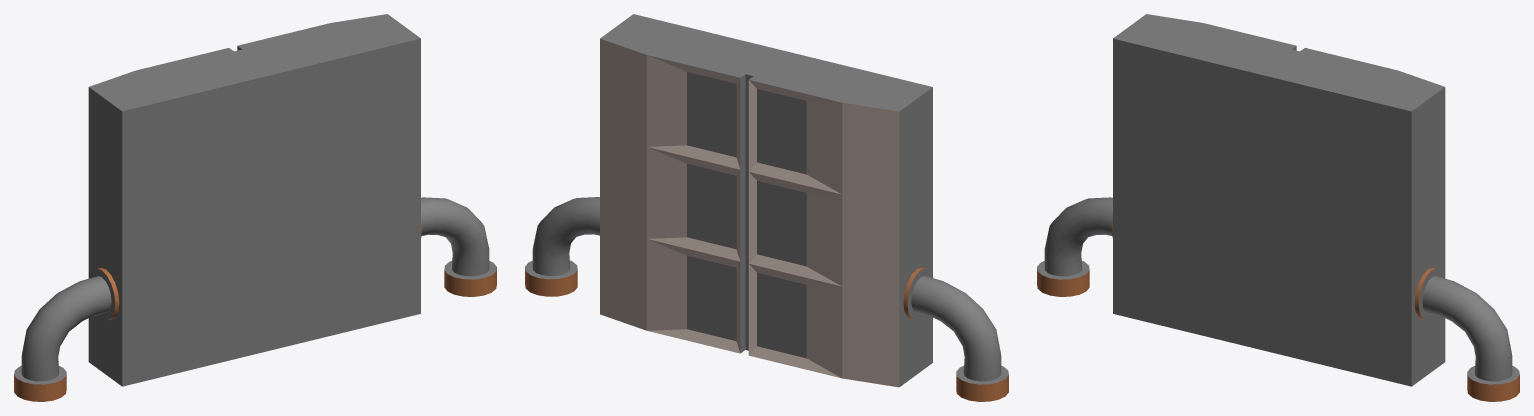
Rendered from SM_Pipe_BOARD_W.fbx.
3 renders of one model, left to right at view 1: azimuth 30°, elevation 25°; view 2: azimuth 150°, elevation 25°; view 3: azimuth 330°, elevation 25°, orthographic.
Visible parts, largest first — view 1: SM_Pipe_BOARD_W; view 2: SM_Pipe_BOARD_W; view 3: SM_Pipe_BOARD_W.
Part boxes in pixels (left/top/right/bottom): SM_Pipe_BOARD_W: left=14, top=14, right=496, bottom=401; SM_Pipe_BOARD_W: left=525, top=14, right=1008, bottom=401; SM_Pipe_BOARD_W: left=1037, top=14, right=1519, bottom=401.
Size of the model in its own units: 7.24 by 4 by 1.02.
